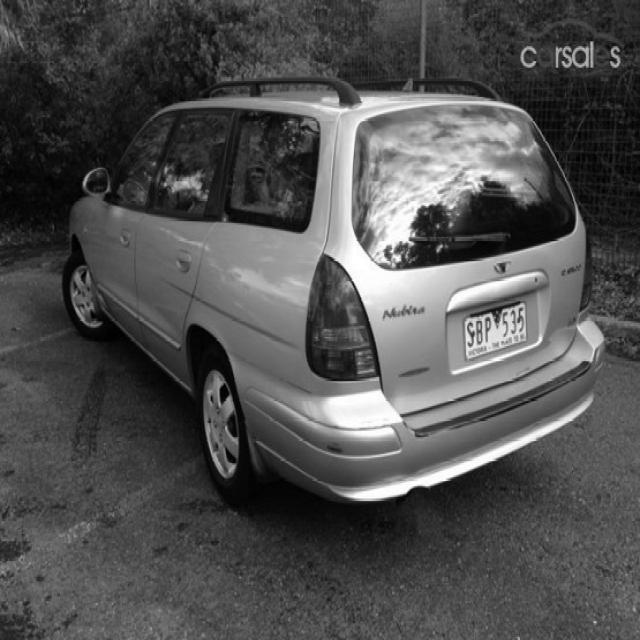car: (61, 74, 606, 508)
plat_license: (461, 298, 527, 360)
